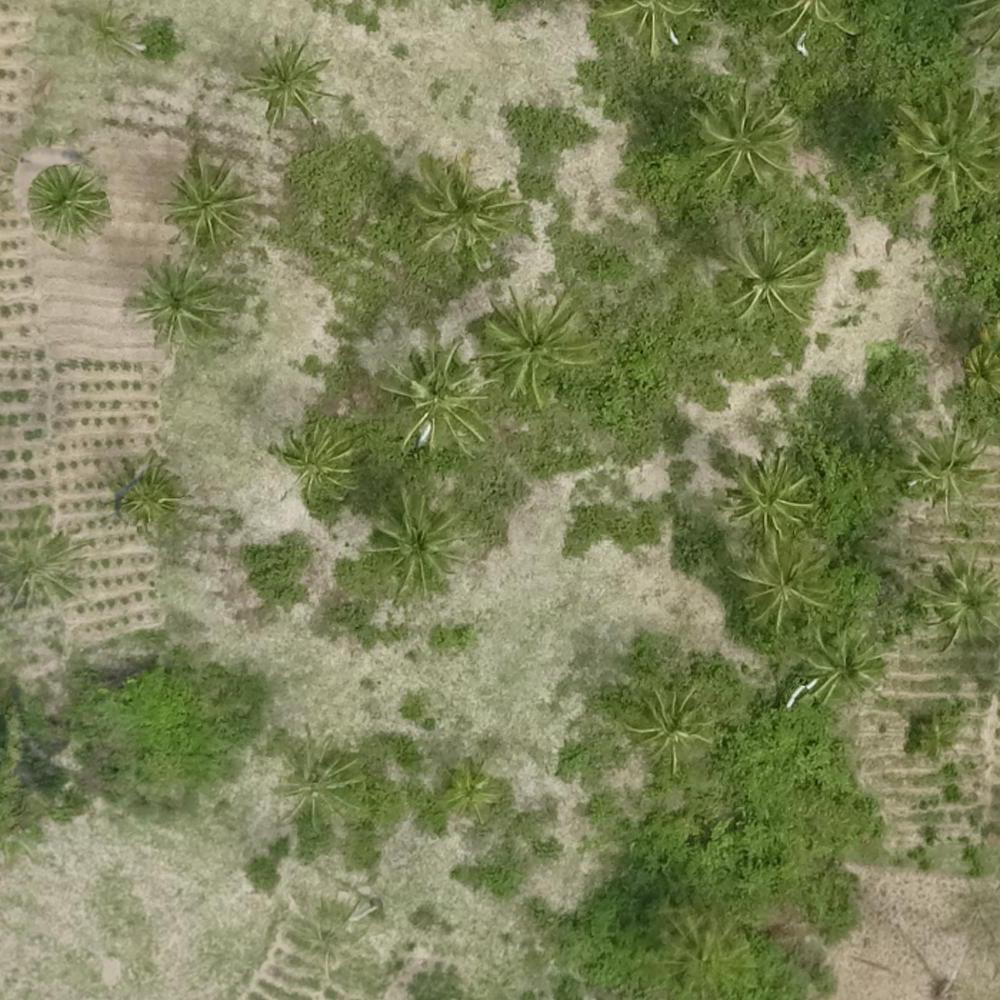Palm: (891, 94, 996, 206), (375, 348, 488, 450), (405, 160, 524, 252), (711, 228, 822, 326), (692, 84, 796, 186), (481, 294, 591, 390), (724, 538, 837, 629), (365, 499, 468, 593), (897, 428, 999, 521), (275, 743, 369, 836), (163, 151, 252, 243), (240, 40, 329, 130), (1, 522, 91, 608), (627, 689, 708, 776), (134, 259, 218, 342), (916, 558, 1000, 640), (725, 452, 812, 529), (798, 629, 884, 704), (30, 165, 113, 241), (276, 431, 357, 500), (107, 463, 187, 532), (428, 764, 494, 823), (82, 5, 142, 63)
